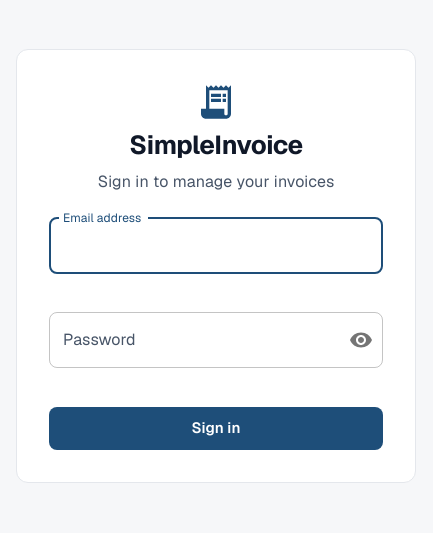
Test: LoginPage › shows the server error for invalid credentials
Type "admin@simpleinvoice.dev" into the field labelled "Email address".
click(216, 246); type("admin@simpleinvoice.dev")  # box [49,218,383,274]
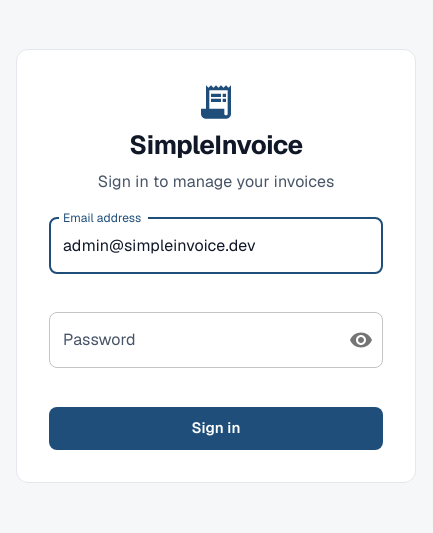
Type "wrong" into the password field labelled "Password".
click(191, 340); type("wrong")  # box [49,312,333,368]
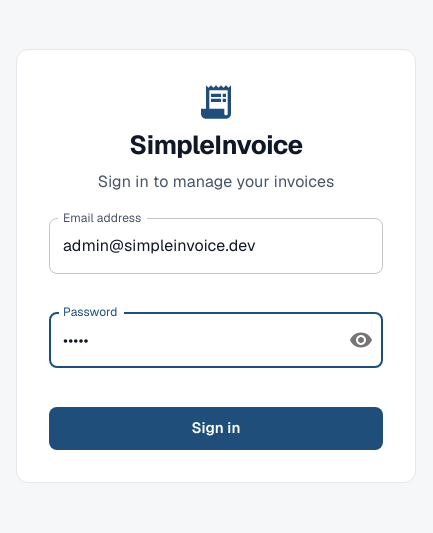
Click the button "Sign in".
click(216, 429)  # box [49,407,383,450]
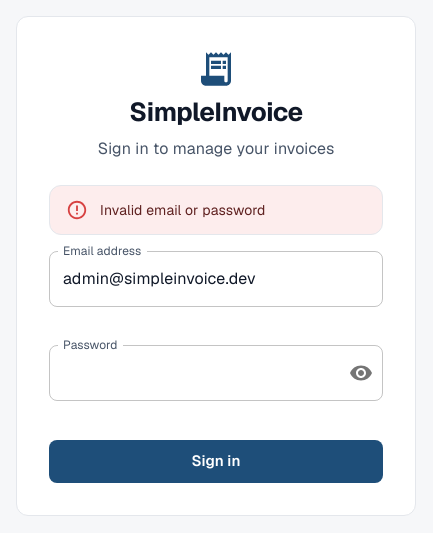
Expected: the message reads "Invalid email or password", [100,200,266,218]
Expected: the password field labelled "Password" is empty, [49,346,333,402]
